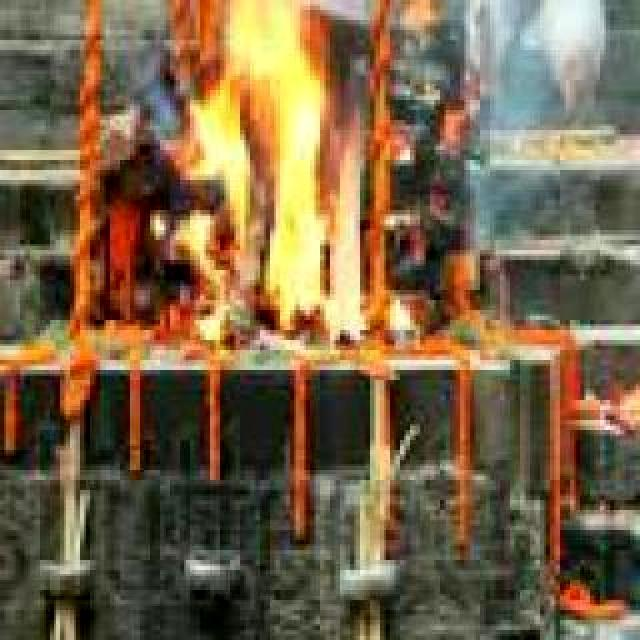fire: (170, 0, 380, 350)
